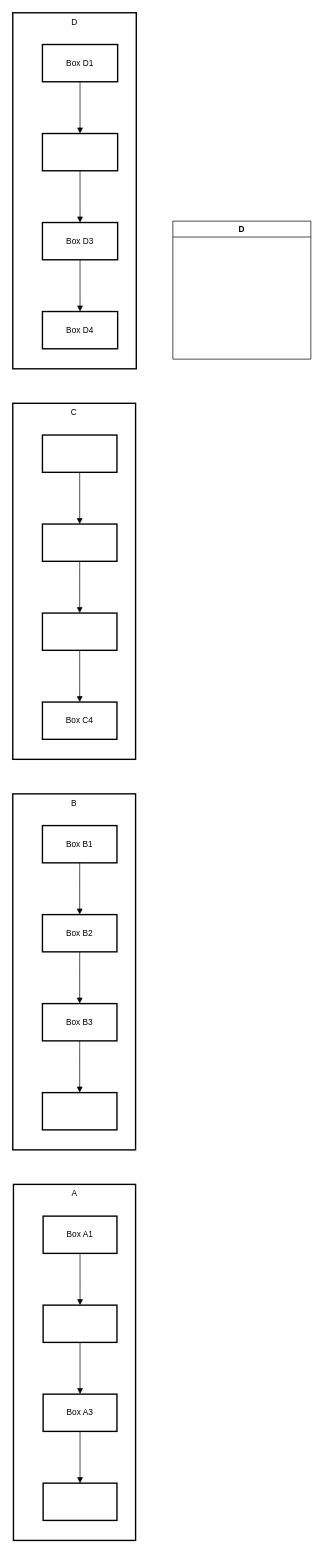
The diagram is 323 pixels wide and 1553 high, and some of its shapes have lost their labels. The shapes that lost their labels are listed below. From the top down, each one's centre as x and y in pixels, then its label:
At point 79,151: "Box D2".
At point 79,453: "Box C1".
At point 79,542: "Box C2".
At point 79,631: "Box C3".
At point 79,1111: "Box B4".
At point 79,1323: "Box A2".
At point 79,1501: "Box A4".
